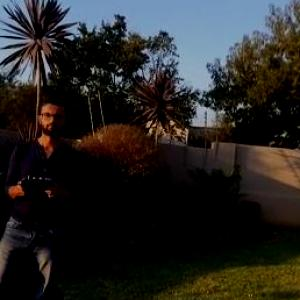follow: (0, 89, 87, 299)
